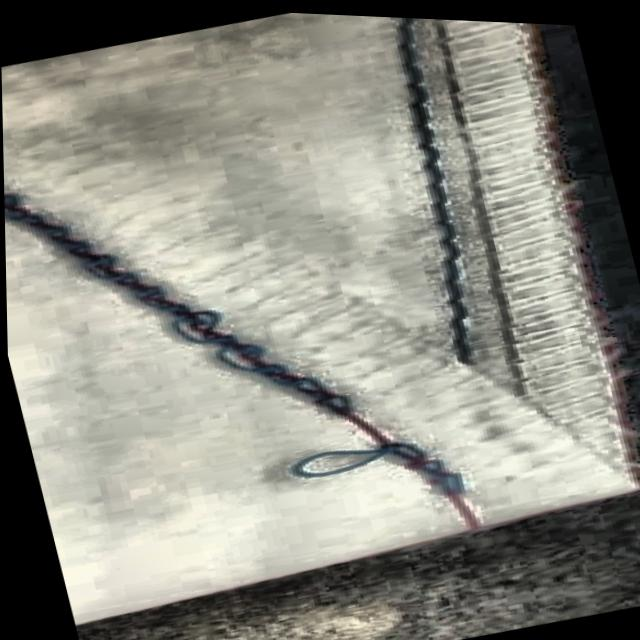Stitch: (25, 256, 358, 479), (268, 390, 488, 546)
